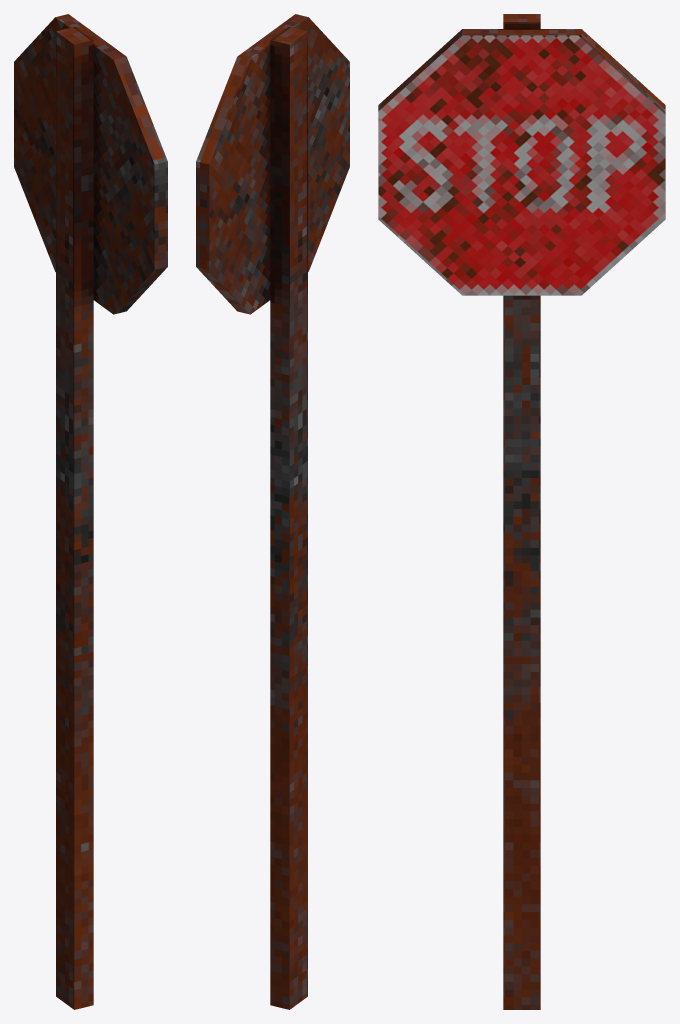
Rendered from stop sign.fbx.
3 views of the same model, side by side, from view 1: azimuth 30°, elevation 25°; view 2: azimuth 150°, elevation 25°; view 3: azimuth 270°, elevation 25° (orthographic). The views are drawn at different scales.
Parts seen in each view (by area): view 1: Cube; view 2: Cube; view 3: Cube.
Part boxes in pixels (left/top/right/bottom): Cube: left=14, top=14, right=167, bottom=1009; Cube: left=196, top=14, right=349, bottom=1009; Cube: left=378, top=14, right=665, bottom=1009.
Bounding box in the file's own units: 24.55 × 700 × 185.
Materials: 1 (1 with a texture image).
